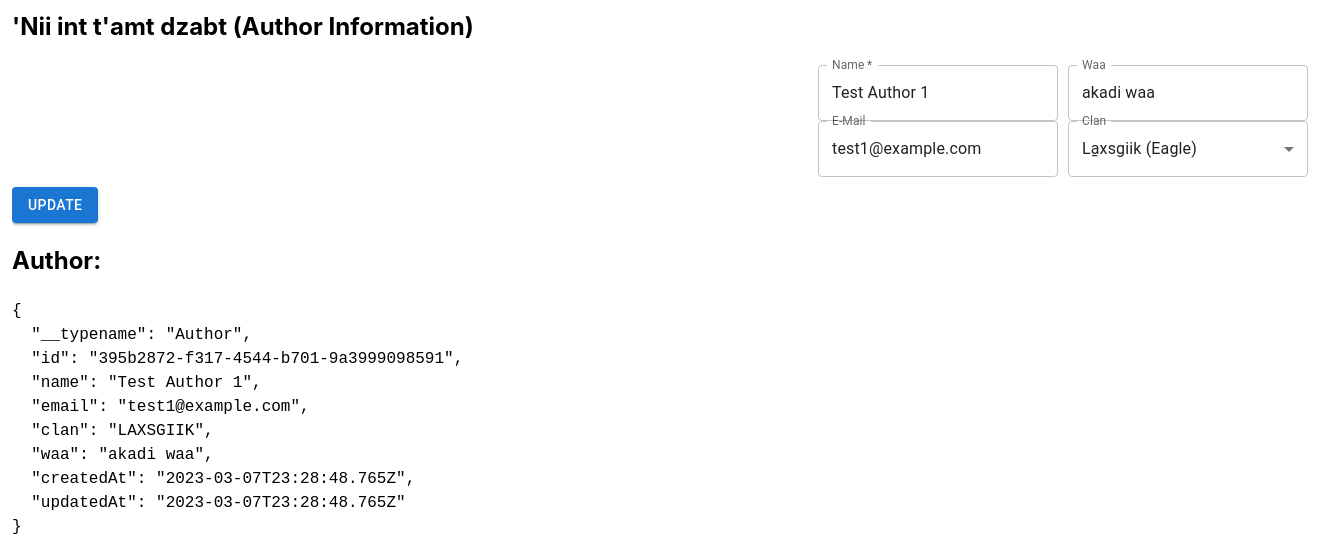
Test: AuthorForm › Update Button only processes on Valid form
Expected: the button "Update" is shown, [12,187,98,223]
Replace the text in the field labelled "Name *" with "A Different Value" at point(938, 93), box [818,65,1058,121]
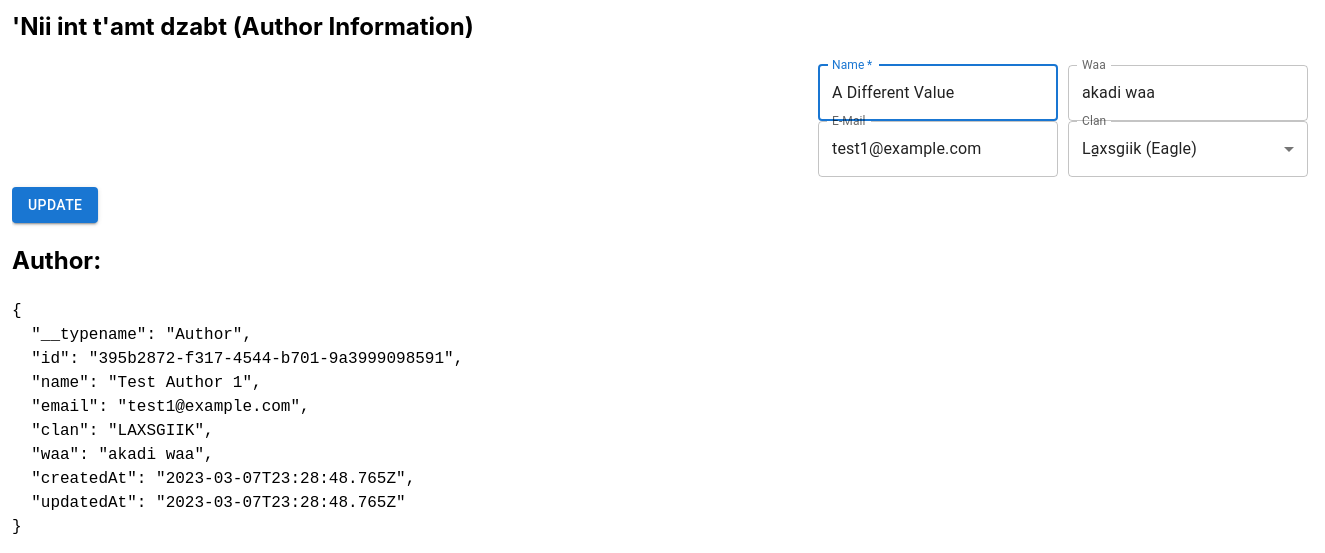
trigger save action
Click the button "Update" at point(55, 205), box [12,187,98,223]
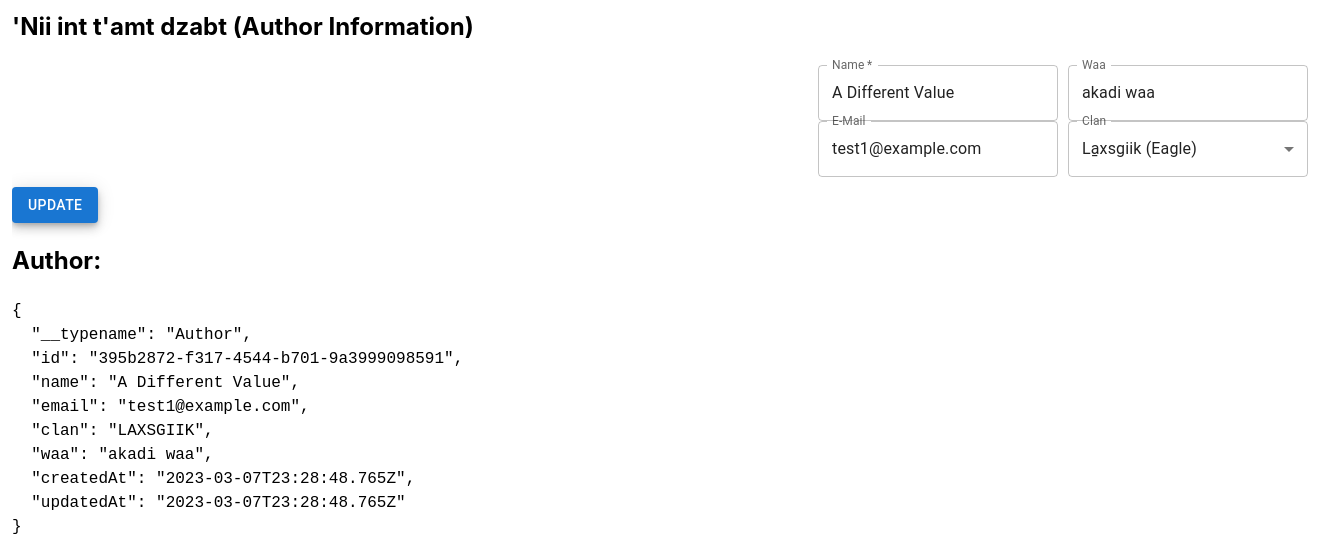
Expected: the text "\"__typename\": \"Author\"," shows "A Different Value", [12,302,463,536]
